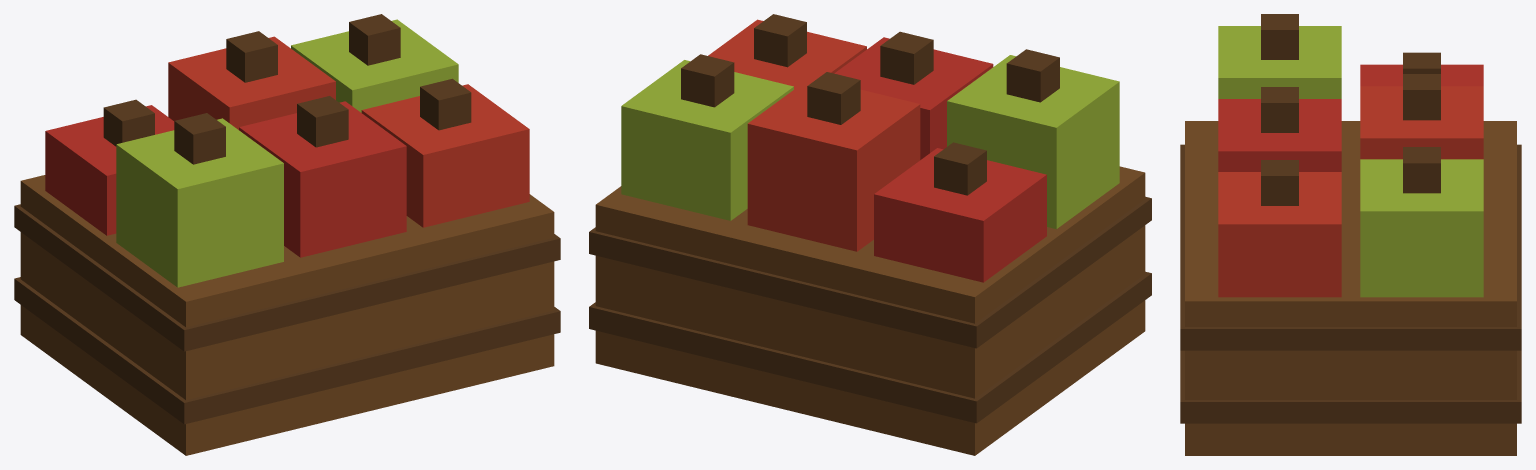
Rendered from cp-crate-apple.glb.
The picture shows the model from 3 angles, left to right: view 1: azimuth 30°, elevation 25°; view 2: azimuth 150°, elevation 25°; view 3: azimuth 270°, elevation 25°; orthographic projection. The views are drawn at different scales.
Parts seen in each view (by area): view 1: box-prop; view 2: box-prop; view 3: box-prop.
Part boxes in pixels (x1,y1,x2,y2): box-prop: [14, 14, 560, 455]; box-prop: [589, 14, 1151, 455]; box-prop: [1180, 14, 1521, 455].
Bounding box in the file's own units: 0.92 × 0.66 × 0.72.
